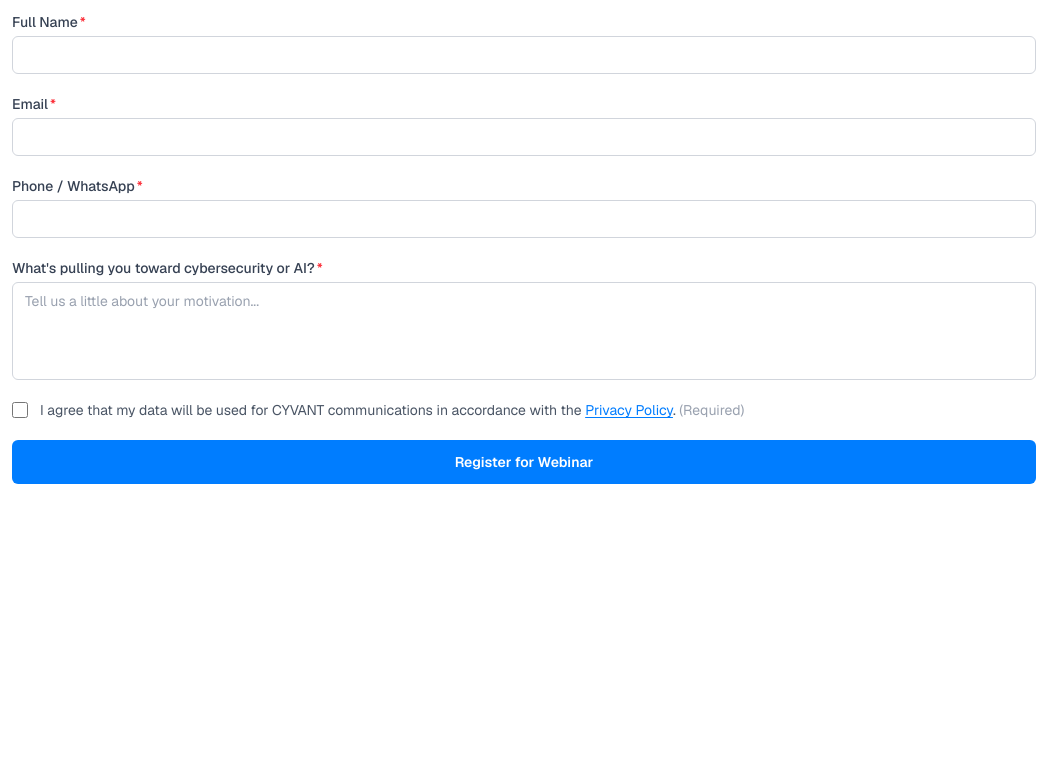
Test: WebinarForm › disables submit and shows errors when consent is unchecked
Click the button "Register for Webinar". click: coordinates (524, 462)
box: [12, 440, 1036, 484]
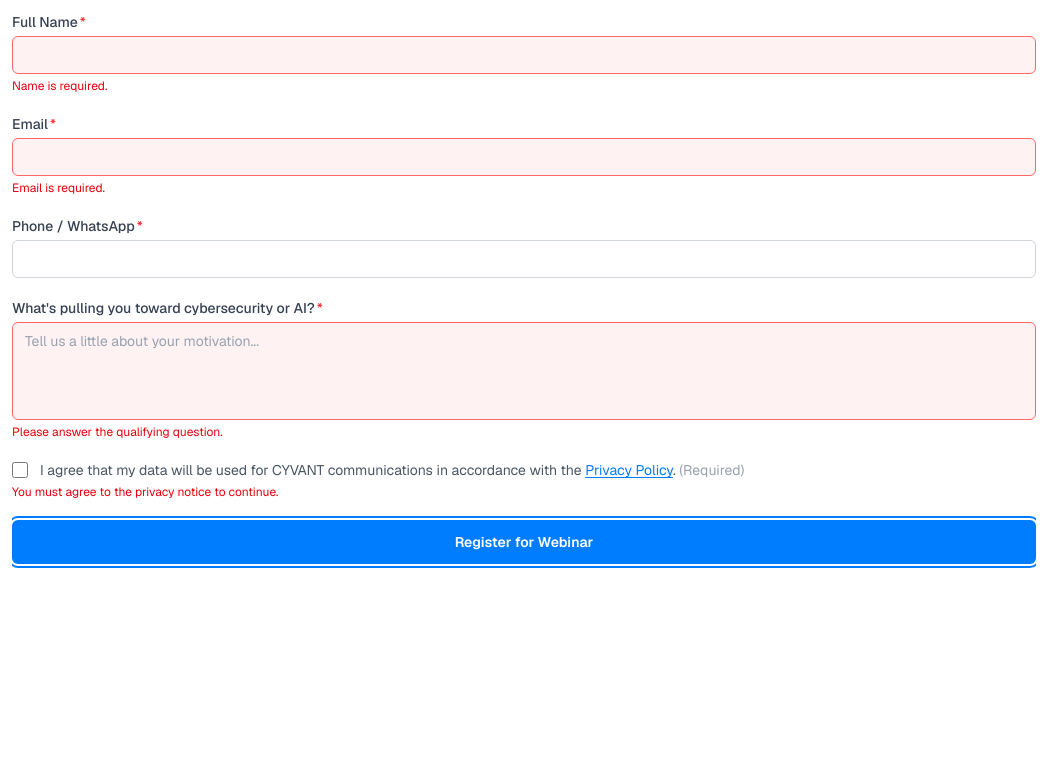
Expected: the text "You must agree to the privacy notice to continue." is shown, [12, 484, 278, 500]
